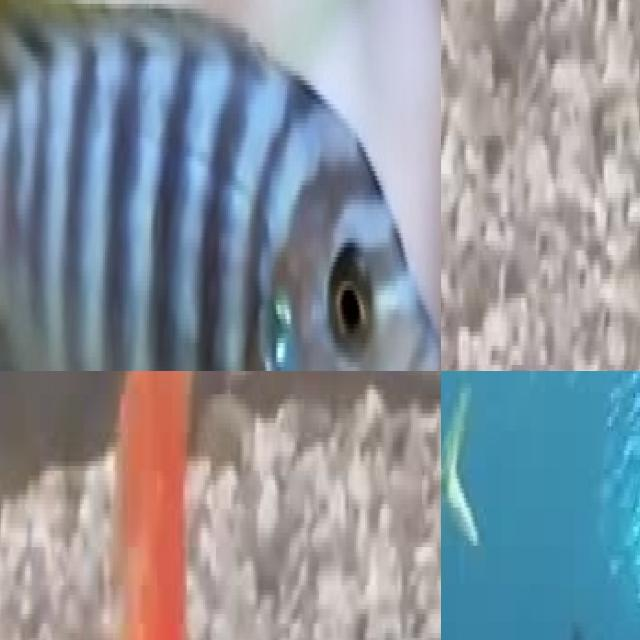fish: (0, 0, 441, 371), (441, 373, 488, 640)
